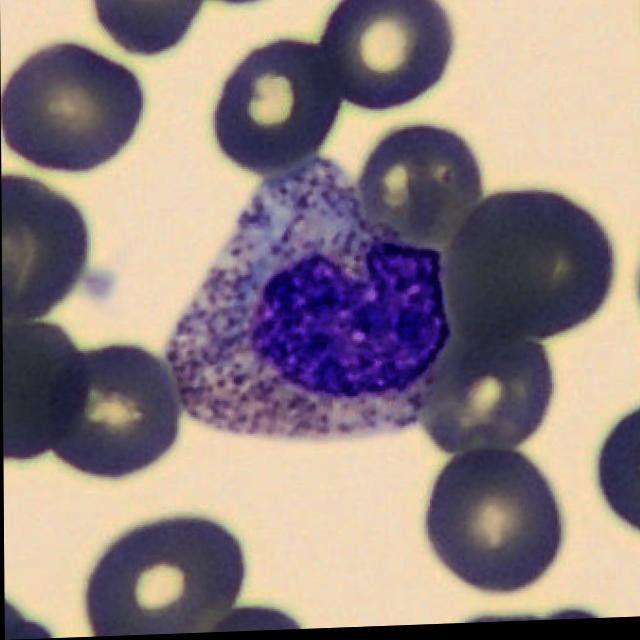Bastonete: (165, 165, 447, 439)
